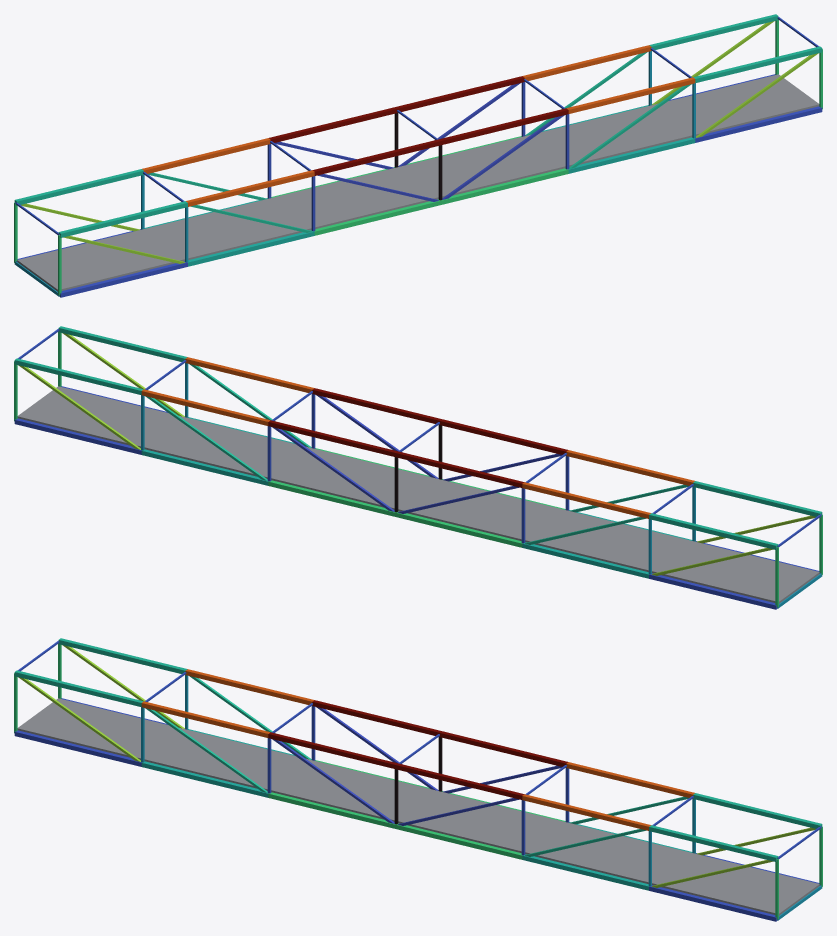
The model's file is 30_2.25_6_HEA200.glb.
The picture shows the model from 3 angles, top to bottom: view 1: azimuth 30°, elevation 25°; view 2: azimuth 150°, elevation 25°; view 3: azimuth 330°, elevation 25°; orthographic projection.
Size of the model in its own units: 30.09 by 2.41 by 3.16.
